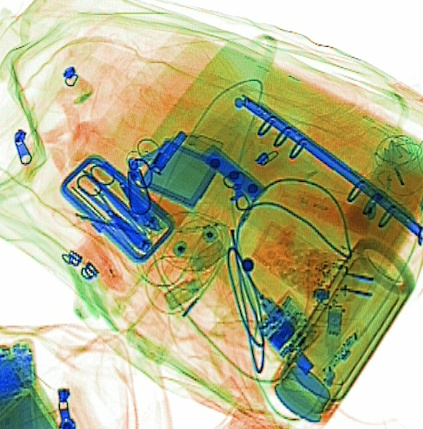scissors: (76, 163, 142, 226)
